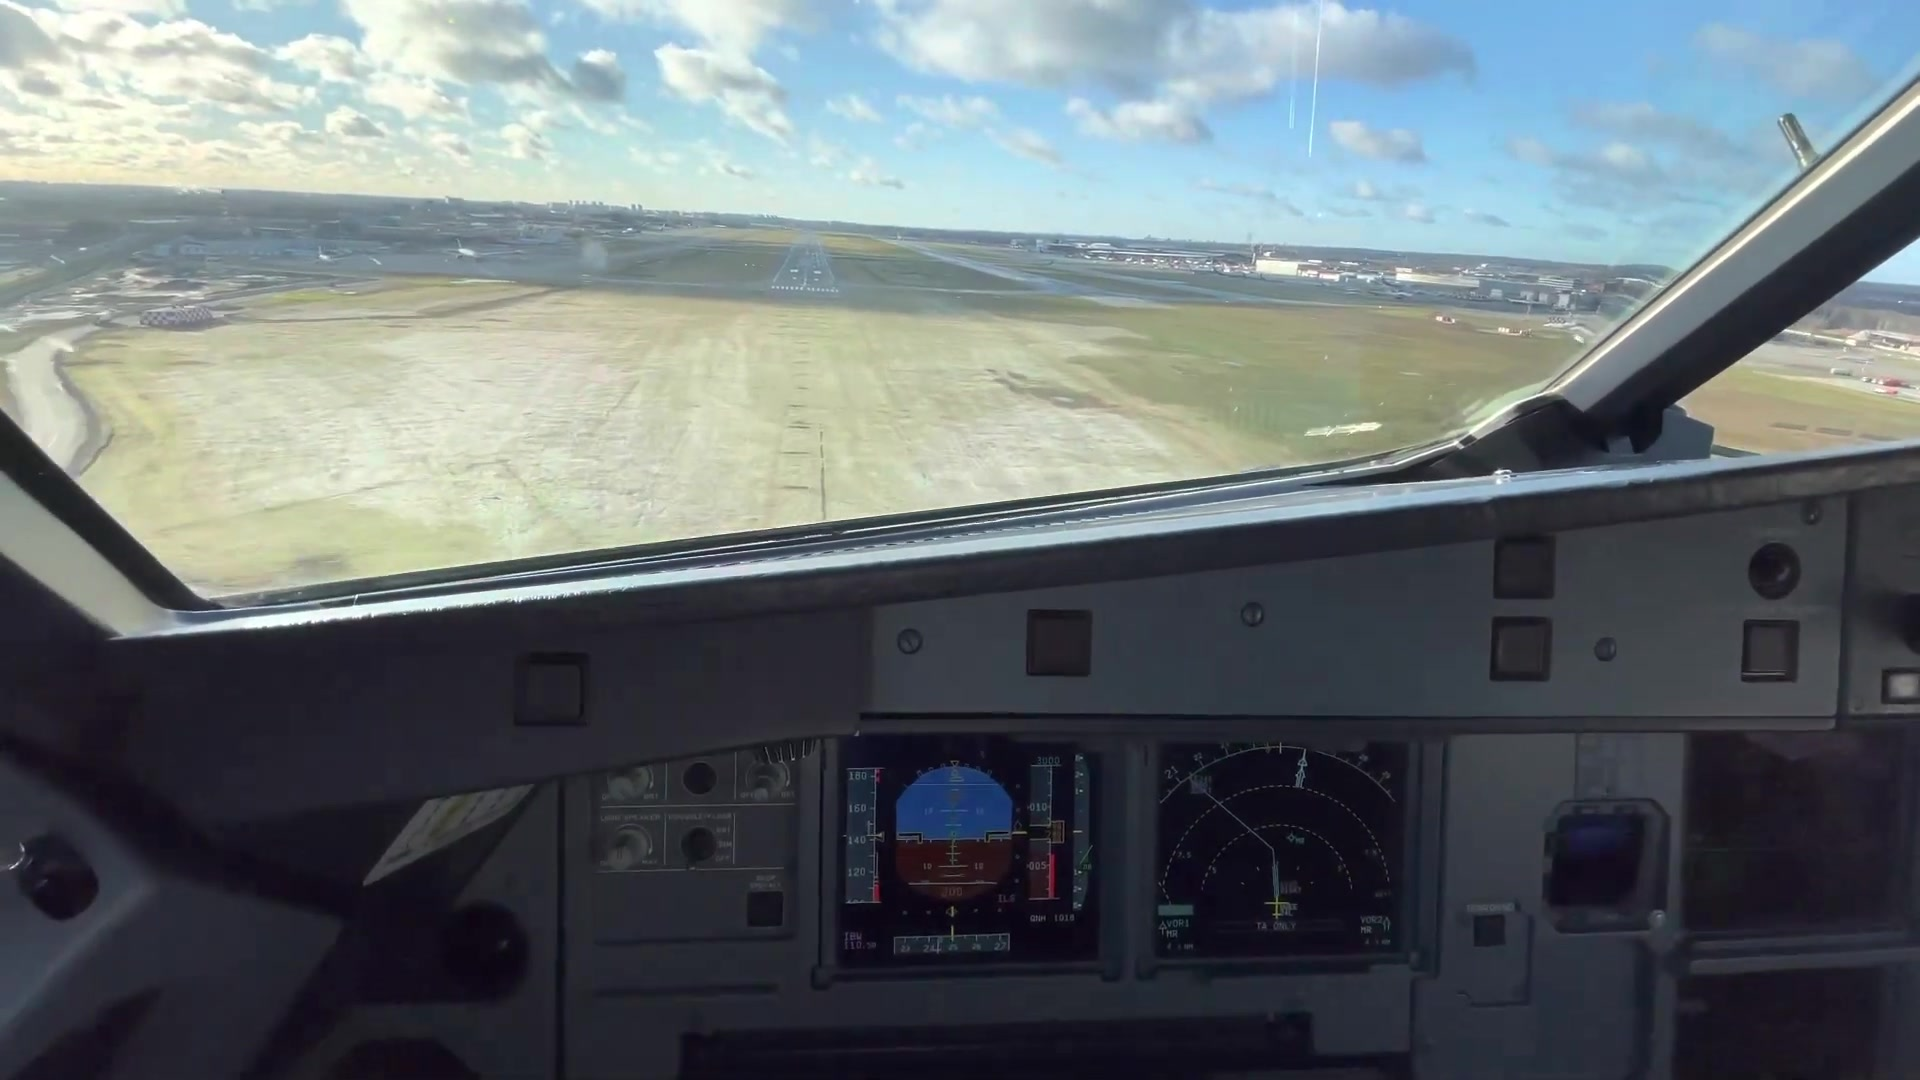entrance: (771, 284, 839, 293)
runway: (769, 233, 841, 297)
